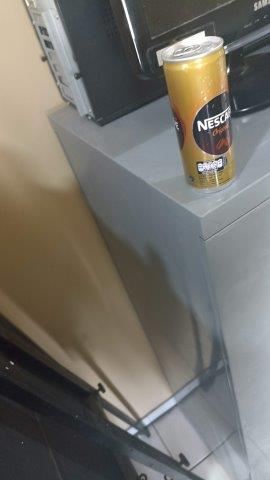kaleng: (160, 37, 235, 194)
